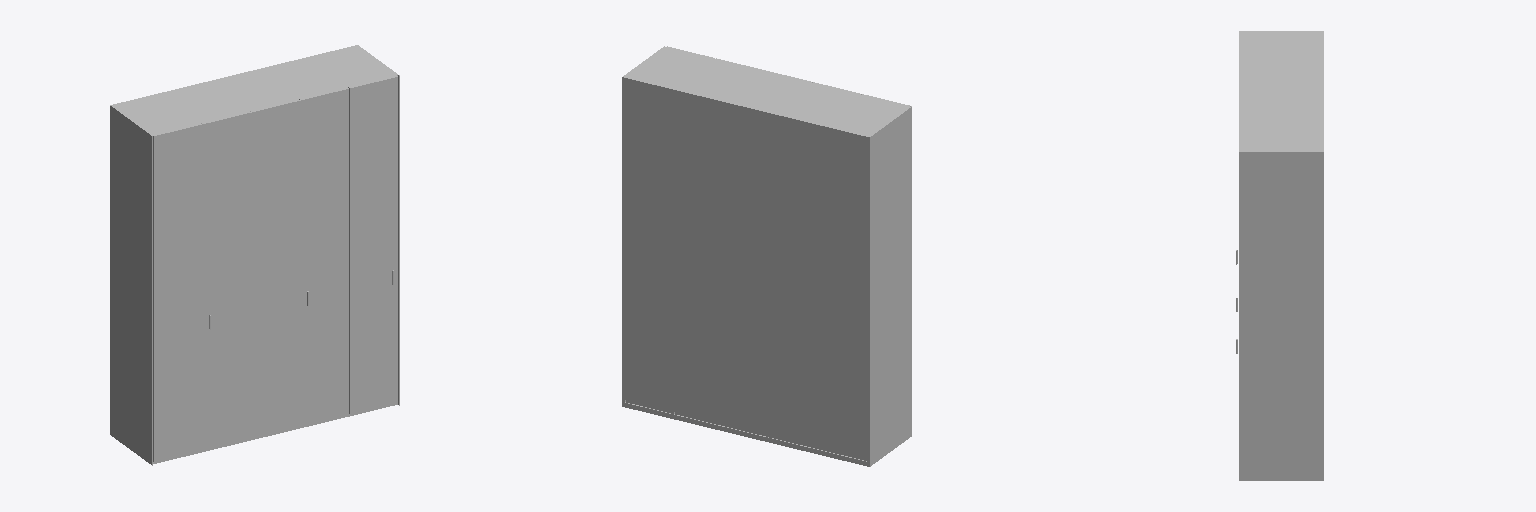
File: wardrobe.obj
3 views of the same model, side by side, from view 1: azimuth 30°, elevation 25°; view 2: azimuth 150°, elevation 25°; view 3: azimuth 270°, elevation 25° (orthographic).
Visible parts, largest first — view 1: Layer:draw_0, Layer:dr20_21, Layer:dra5_6, Layer:dr18_19, Layer:dra7_8, Layer:dr11_12, Layer:dra4_5, Layer:dr17_18, Layer:dr28_29, Layer:dra6_7, Layer:dra8_9, Layer:dr19_20 (+2 smaller); view 2: Layer:dra0_1, Layer:dr13_14, Layer:dr24_25, Layer:dr11_12, Layer:dr17_18, Layer:dra4_5, Layer:dr28_29, Layer:dr34_35, Layer:dr33_34, Layer:dr12_13, Layer:dr23_24; view 3: Layer:dr32_33, Layer:dra4_5, Layer:dr17_18, Layer:dr28_29, Layer:dr31_32.
Part boxes in pixels (x1,y1,x2,y2): Layer:draw_0: (350, 77, 397, 413); Layer:dr20_21: (301, 89, 348, 425); Layer:dra5_6: (155, 125, 201, 461); Layer:dr18_19: (253, 101, 299, 437); Layer:dra7_8: (204, 113, 250, 449); Layer:dr11_12: (110, 106, 150, 463); Layer:dra4_5: (114, 82, 248, 133); Layer:dr17_18: (212, 58, 346, 110); Layer:dr28_29: (310, 46, 395, 86); Layer:dra6_7: (153, 123, 202, 461); Layer:dra8_9: (202, 111, 251, 449); Layer:dr19_20: (251, 99, 300, 437); Layer:dra0_1: (772, 113, 866, 458); Layer:dr13_14: (674, 89, 768, 434); Layer:dr24_25: (625, 78, 670, 410); Layer:dr11_12: (870, 108, 910, 466); Layer:dr17_18: (675, 60, 808, 111); Layer:dra4_5: (774, 84, 906, 135); Layer:dr28_29: (626, 48, 710, 88); Layer:dr34_35: (671, 59, 713, 418); Layer:dr33_34: (622, 47, 664, 406); Layer:dr12_13: (867, 107, 910, 466); Layer:dr23_24: (769, 83, 811, 442); Layer:dr32_33: (1242, 152, 1323, 480); Layer:dra4_5: (1242, 32, 1322, 78); Layer:dr17_18: (1242, 80, 1322, 125); Layer:dr28_29: (1242, 128, 1322, 149); Layer:dr31_32: (1239, 151, 1241, 480).
Bounding box in the file's own units: 2037 × 2590 × 628.